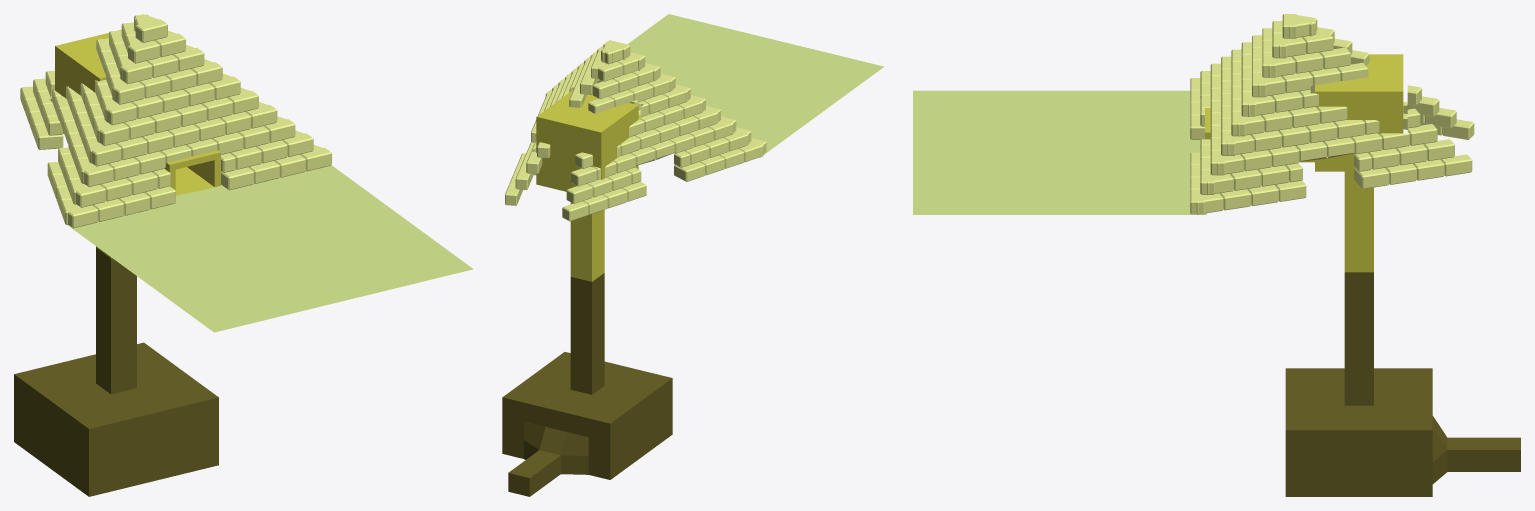
File: MapGameJamPreRelease.glb
3 renders of one model, left to right at view 1: azimuth 30°, elevation 25°; view 2: azimuth 150°, elevation 25°; view 3: azimuth 270°, elevation 25°, orthographic. The views are drawn at different scales.
Parts seen in each view (by area): view 1: Plane-col, Pyramid, Tutorial-col, Intro-col; view 2: Tutorial-col, Pyramid, Plane-col, Intro-col; view 3: Plane-col, Pyramid, Tutorial-col, Intro-col.
Boxes of the visible parts, box(x1,y1,x2,y2) form: Plane-col: box(67, 165, 473, 332); Pyramid: box(20, 14, 331, 228); Tutorial-col: box(14, 248, 218, 496); Intro-col: box(55, 30, 220, 258); Tutorial-col: box(502, 273, 672, 496); Pyramid: box(505, 40, 766, 221); Plane-col: box(627, 14, 883, 157); Intro-col: box(536, 90, 641, 281); Plane-col: box(913, 90, 1206, 214); Pyramid: box(1190, 14, 1474, 214); Tutorial-col: box(1285, 272, 1520, 496); Intro-col: box(1205, 54, 1403, 272).
Bounding box in the file's own units: 40.32 × 67 × 82.7.
